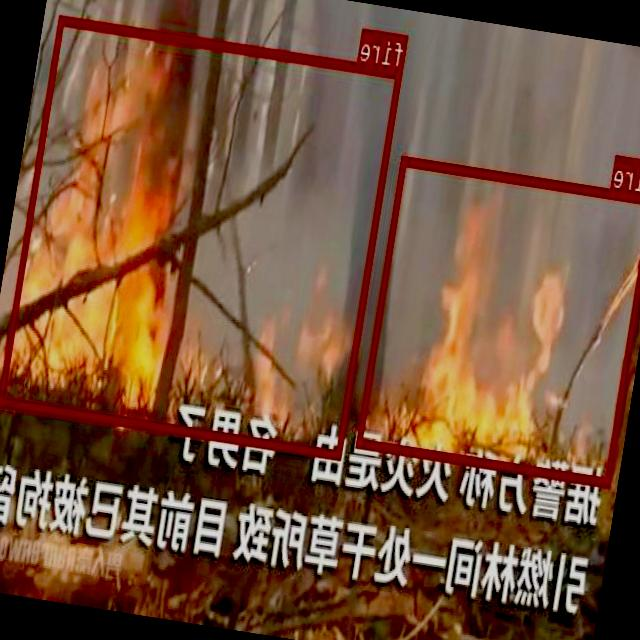fire: (0, 14, 404, 458), (357, 155, 640, 487)
